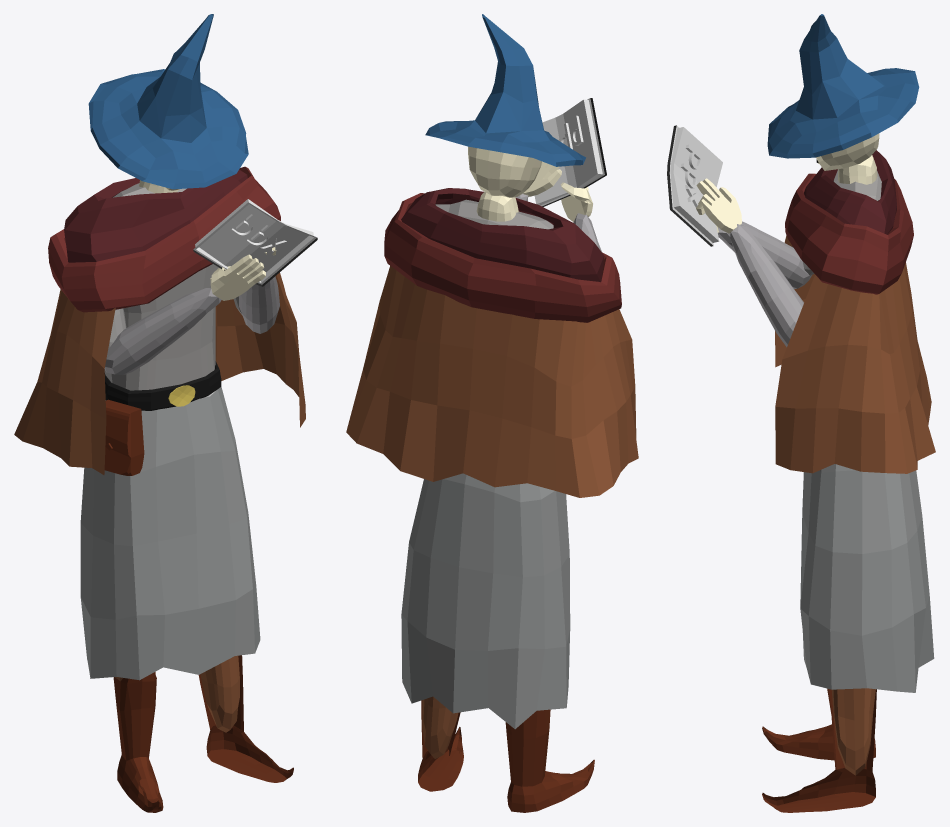
The model's file is magov2.glb.
3 views of the same model, side by side, from view 1: azimuth 30°, elevation 25°; view 2: azimuth 150°, elevation 25°; view 3: azimuth 270°, elevation 25° (orthographic).
Visible parts, largest first — view 1: torsico; view 2: torsico; view 3: torsico.
Part boxes in pixels (<box>): torsico: <box>14,14,317,812</box>; torsico: <box>346,14,638,812</box>; torsico: <box>667,14,935,812</box>.
Bounding box in the file's own units: 0.5828 × 1.66 × 0.5245.
